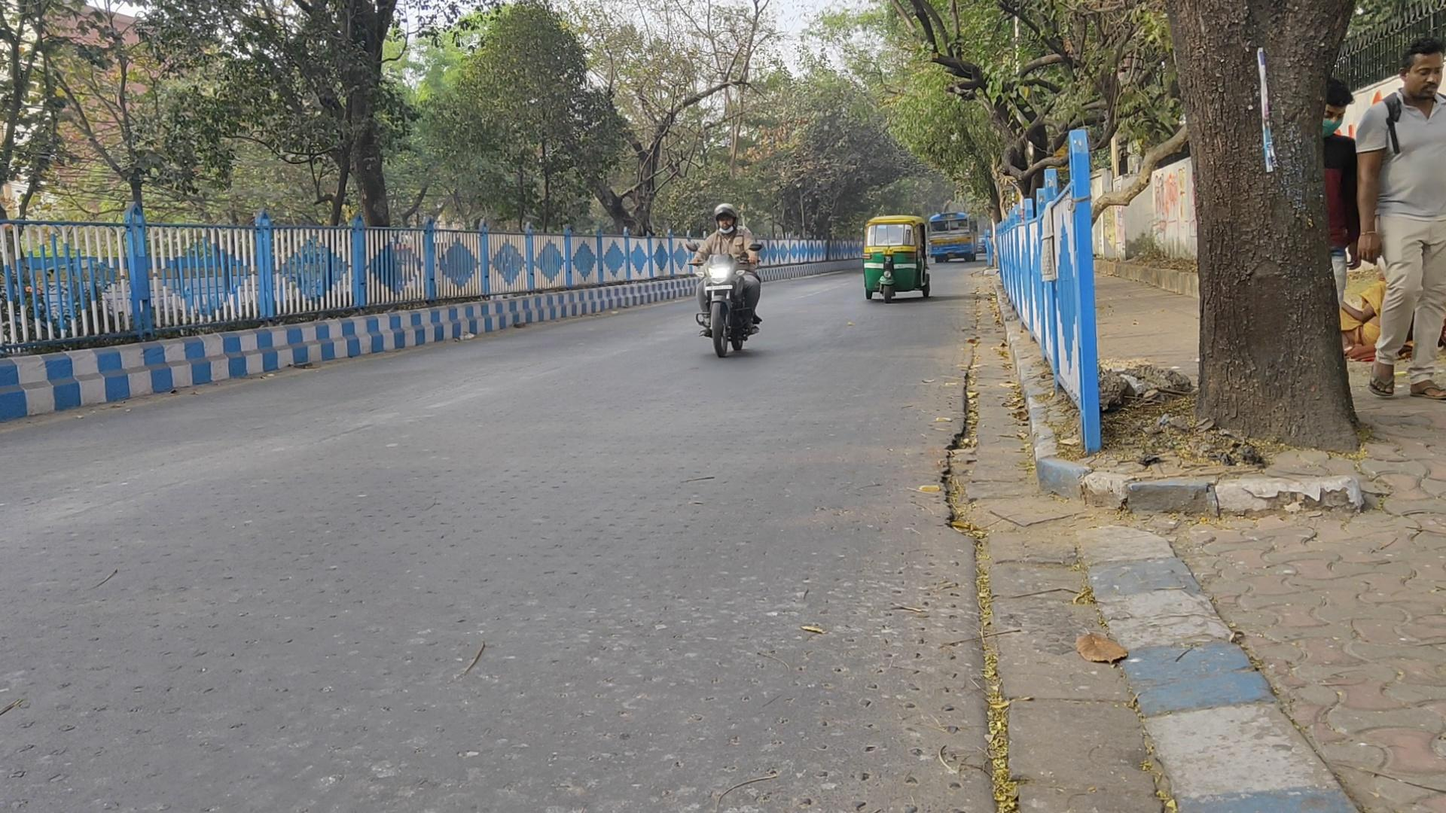Auto: (862, 215, 932, 303)
Bus: (929, 212, 979, 265)
bike: (686, 202, 762, 358)
